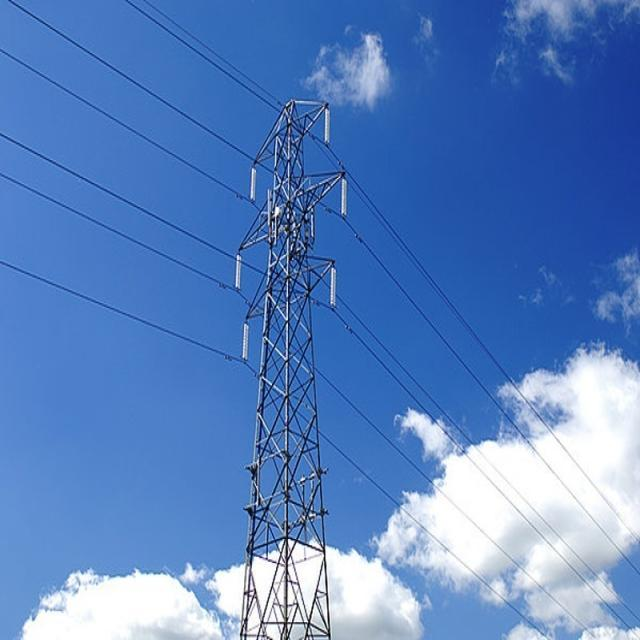non-critical vegetation: (228, 98, 352, 636)
